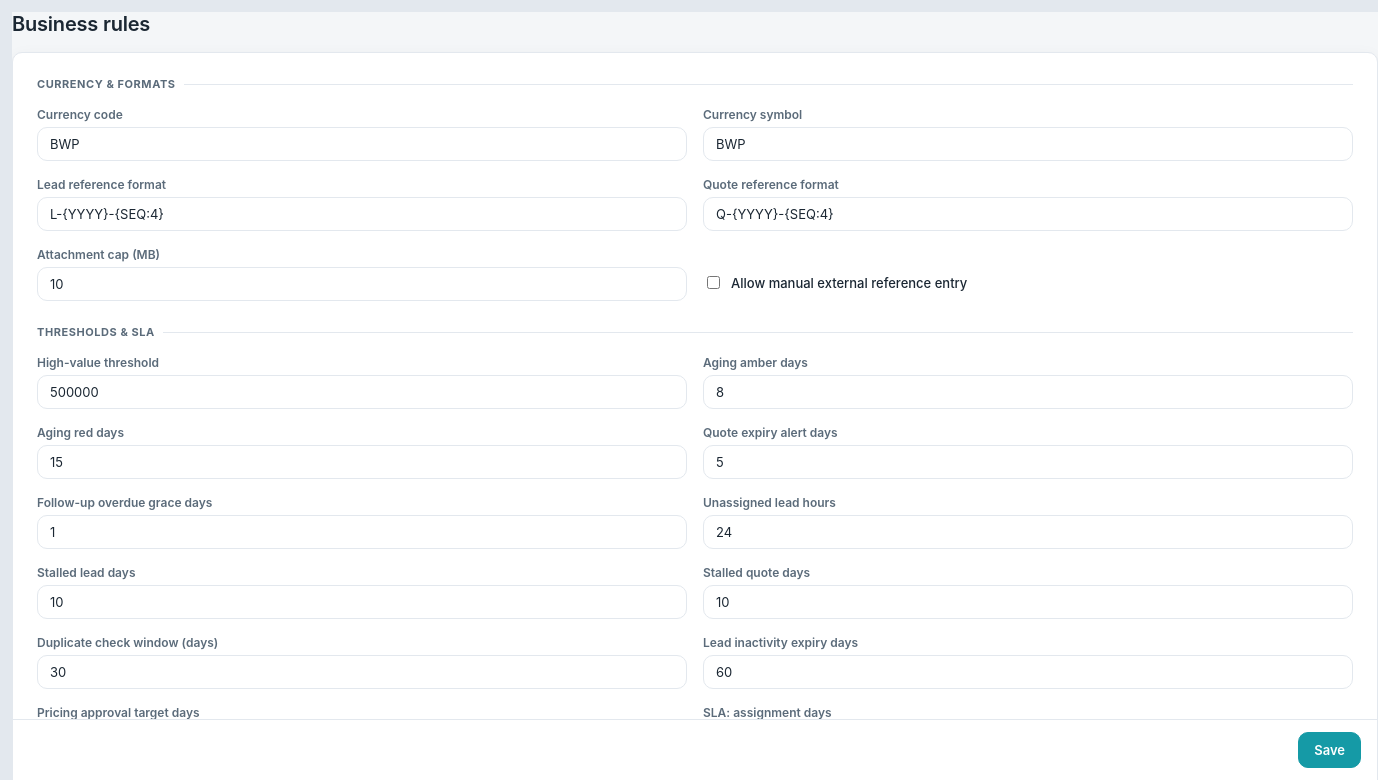
Scenario: BusinessRulesTab › submit_WhenAgingRedNotGreaterThanAmber_ShouldShowInlineErrorAndNotSave
The width and height of the screenshot is (1378, 780).
Replace the text in the number field labelled "Aging amber days" with "10" at (1028, 392), box [703,375,1353,409]
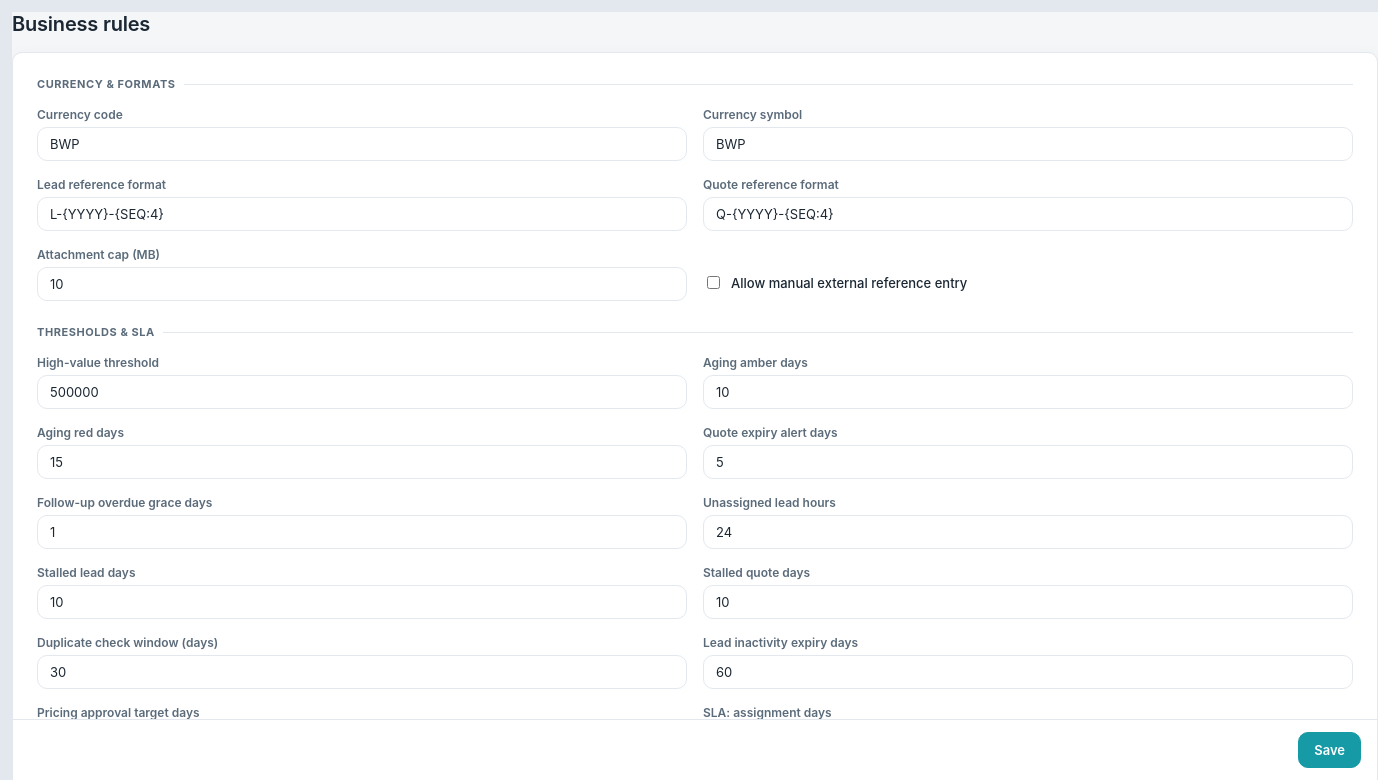
Replace the text in the number field labelled "Aging red days" with "5" at (362, 462), box [37,445,687,479]
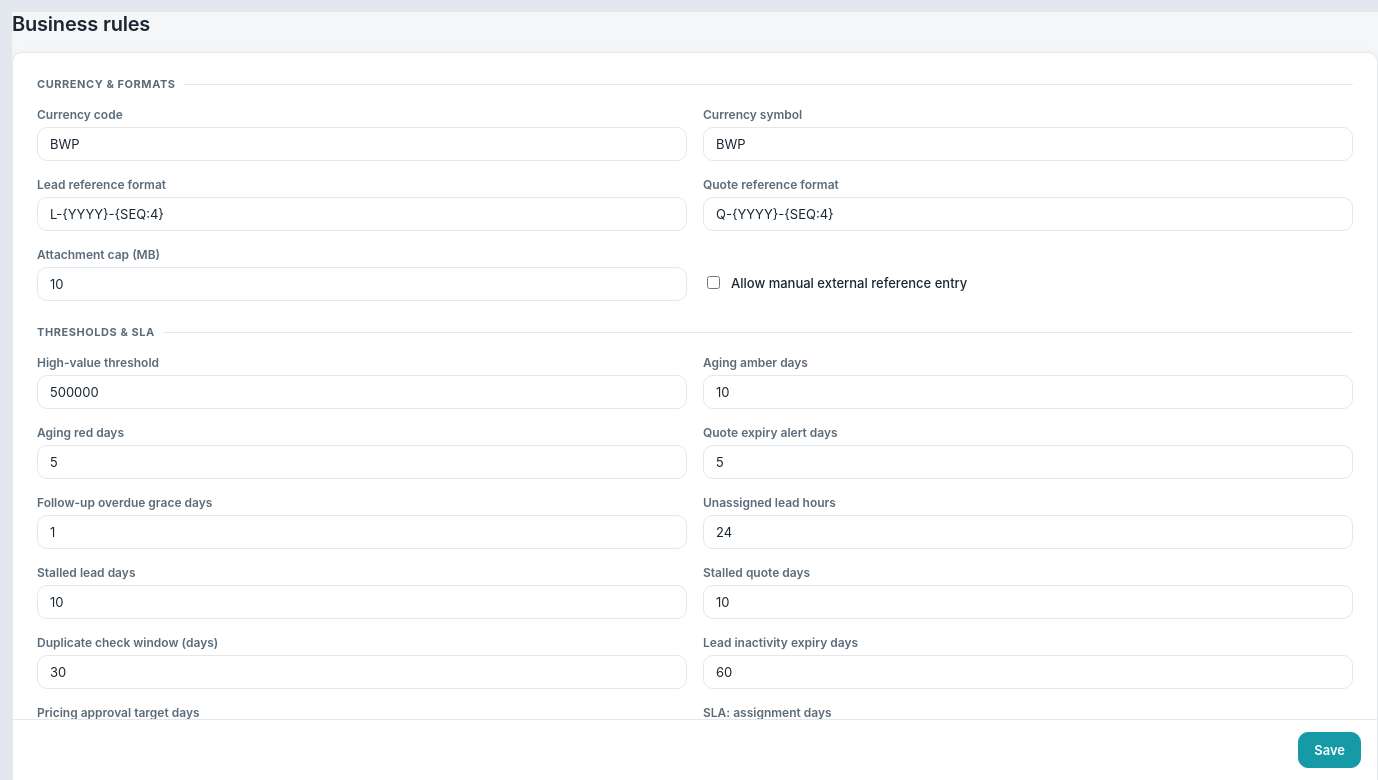
Click the button "Save" at (1330, 750), box [1298,732,1361,768]
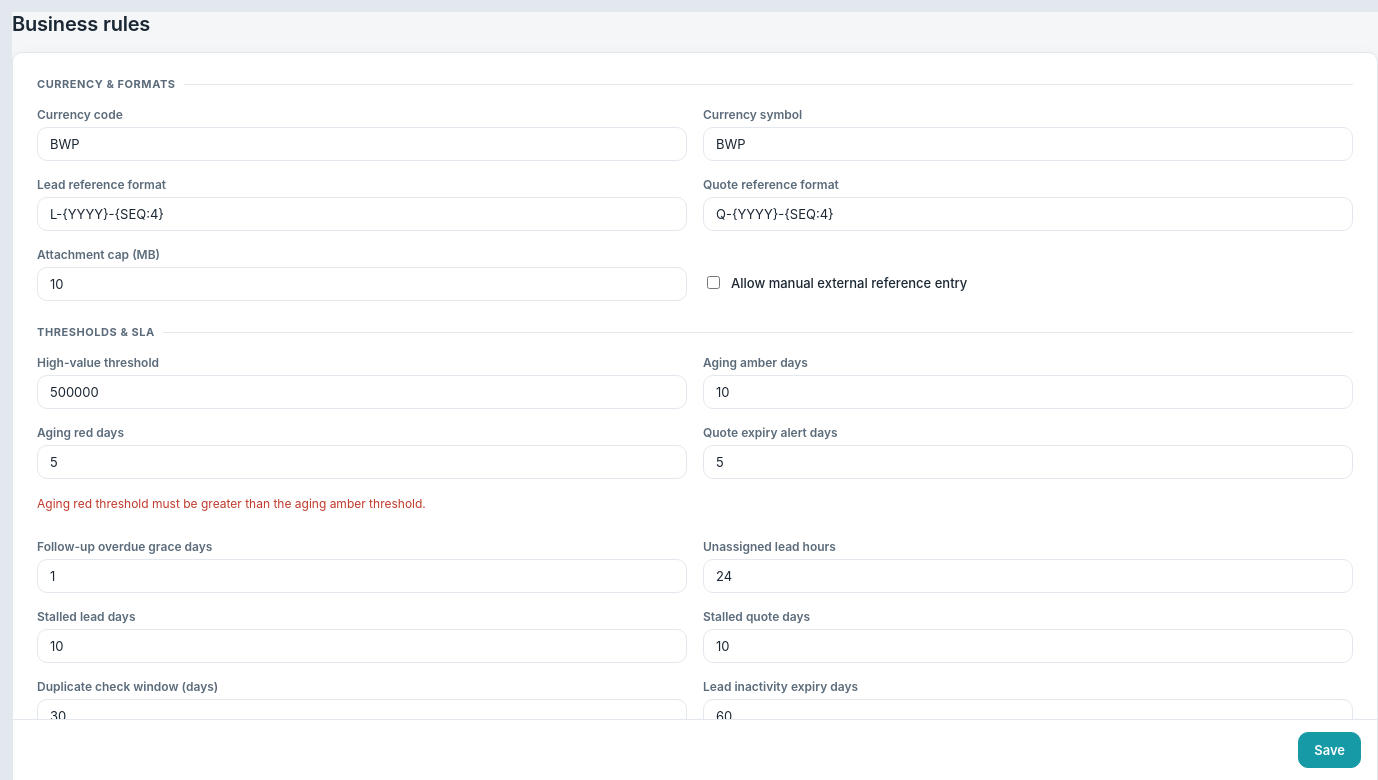
Result: the text "Aging red threshold must be greater than the aging amber threshold." is shown at [37,496,426,511]
